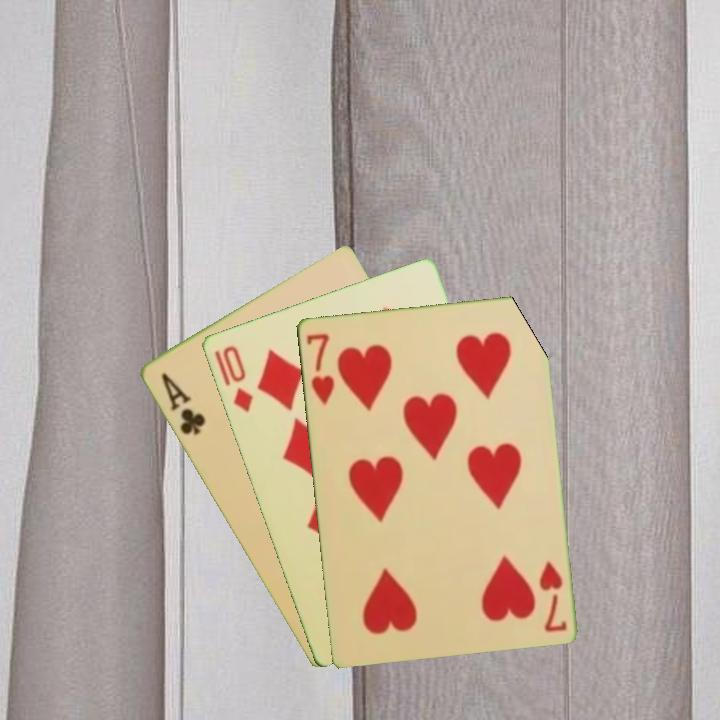10d: (218, 341, 256, 415)
7h: (302, 329, 337, 408), (535, 557, 569, 635)
Ac: (157, 369, 208, 438)
